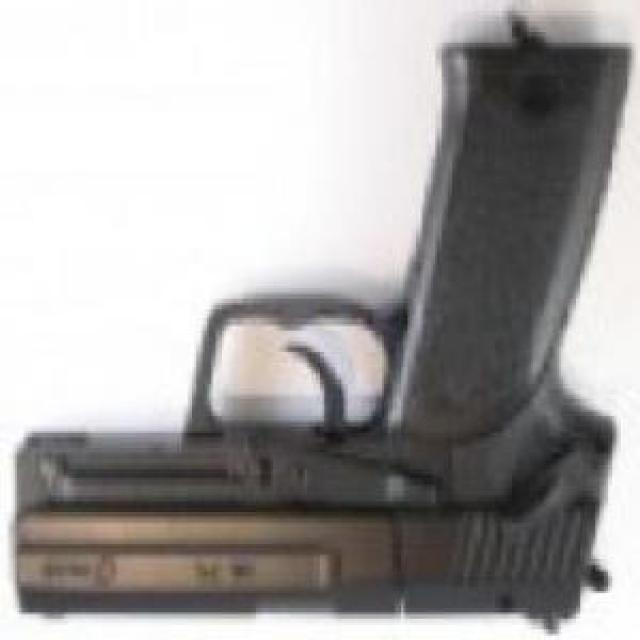pistol: (17, 42, 633, 623)
